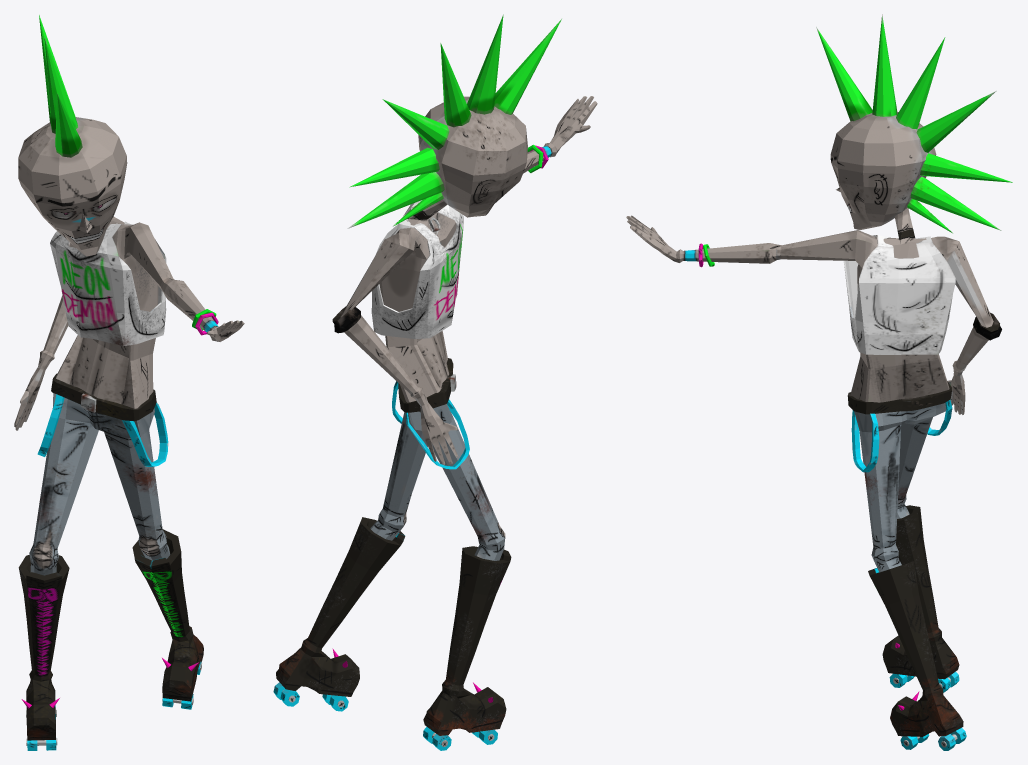
The model's file is punkAnimation_000017.obj.
The picture shows the model from 3 angles, left to right: view 1: azimuth 30°, elevation 25°; view 2: azimuth 150°, elevation 25°; view 3: azimuth 270°, elevation 25°; orthographic projection. The views are drawn at different scales.
Visible parts, largest first — view 1: Cube.004_Cube.003; view 2: Cube.004_Cube.003; view 3: Cube.004_Cube.003.
Part boxes in pixels (left/top/right/bottom): Cube.004_Cube.003: left=14, top=15, right=244, bottom=750; Cube.004_Cube.003: left=273, top=14, right=597, bottom=750; Cube.004_Cube.003: left=626, top=14, right=1012, bottom=750.
Bounding box in the file's own units: 2.31 × 7.35 × 3.88.
